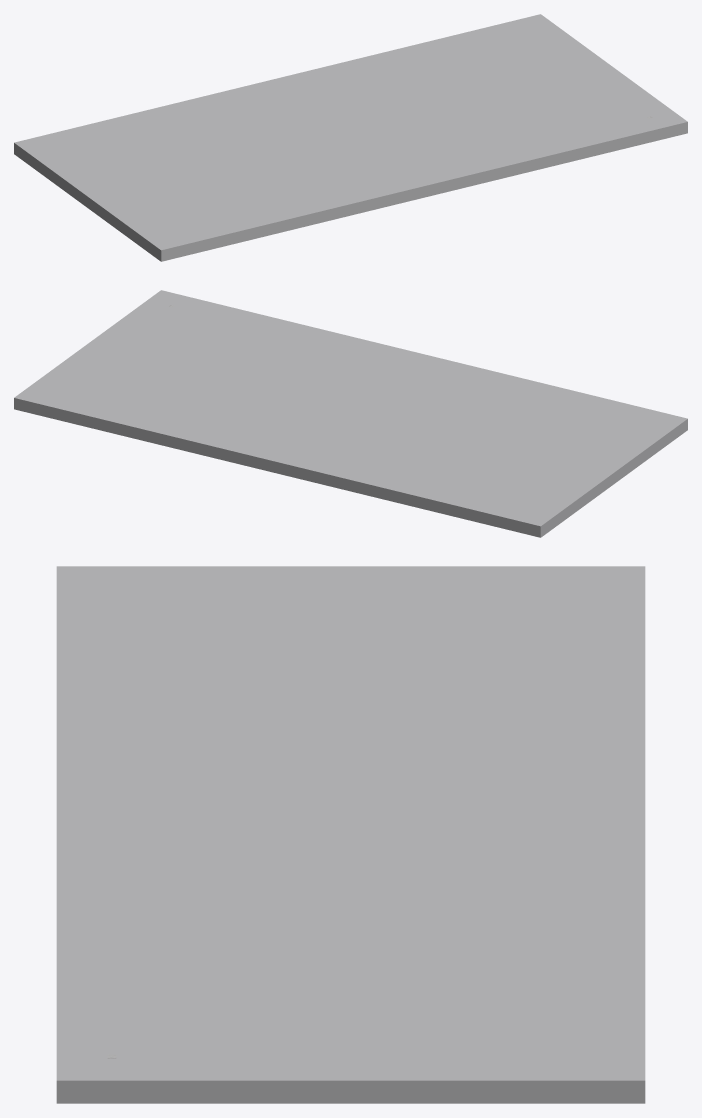
The model's file is Soffitto.dae.
The picture shows the model from 3 angles, top to bottom: view 1: azimuth 30°, elevation 25°; view 2: azimuth 150°, elevation 25°; view 3: azimuth 270°, elevation 25°; orthographic projection. The views are drawn at different scales.
Visible parts, largest first — view 1: Plane_001; view 2: Plane_001; view 3: Plane_001.
Part boxes in pixels (x1,y1,x2,y2): Plane_001: (14,14,687,261); Plane_001: (14,290,687,537); Plane_001: (56,566,645,1103).
Size of the model in its own units: 27.48 by 13.3 by 0.7683.
2 materials, 2 textured.
